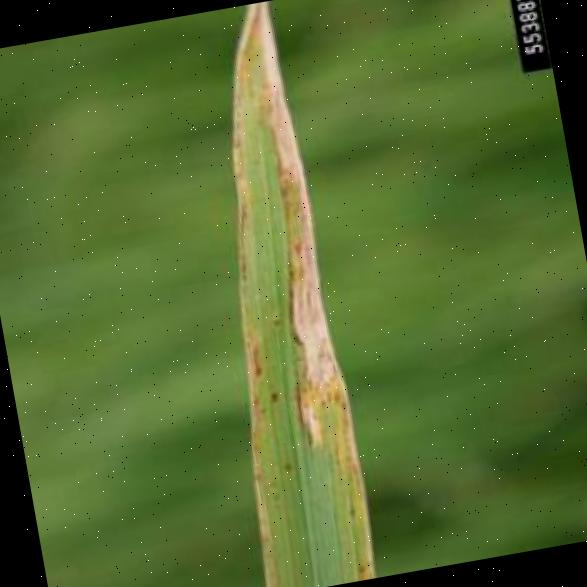Bacteria_Leaf_Blight: (157, 0, 386, 587)
